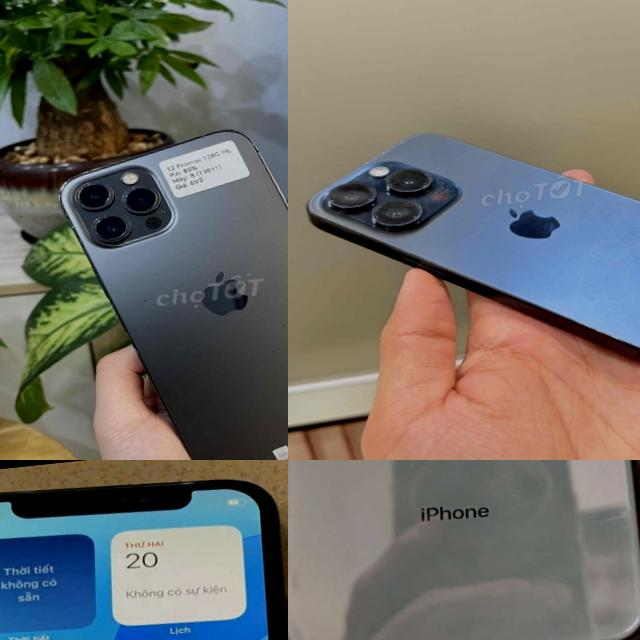gen_12_13: (43, 111, 288, 460)
gen_15: (294, 87, 640, 412)
gen_x_xs: (288, 460, 640, 640), (0, 479, 287, 640)
